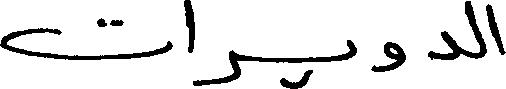X: (0, 13, 171, 64), (205, 45, 239, 88), (425, 26, 458, 64), (466, 0, 485, 63), (375, 37, 405, 76), (487, 0, 505, 59), (183, 0, 195, 88), (345, 35, 356, 64)
